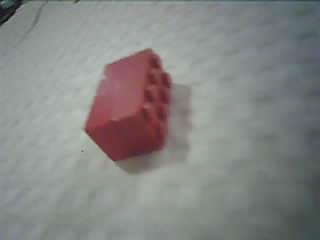lego: (82, 48, 173, 162)
